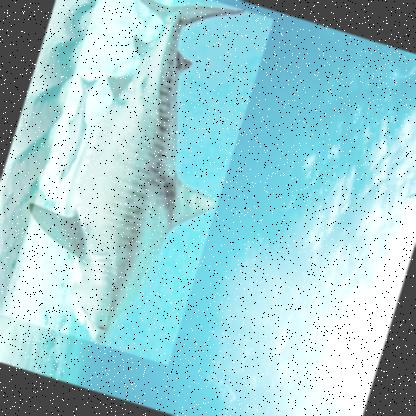tiger-shark: (0, 0, 273, 367)
